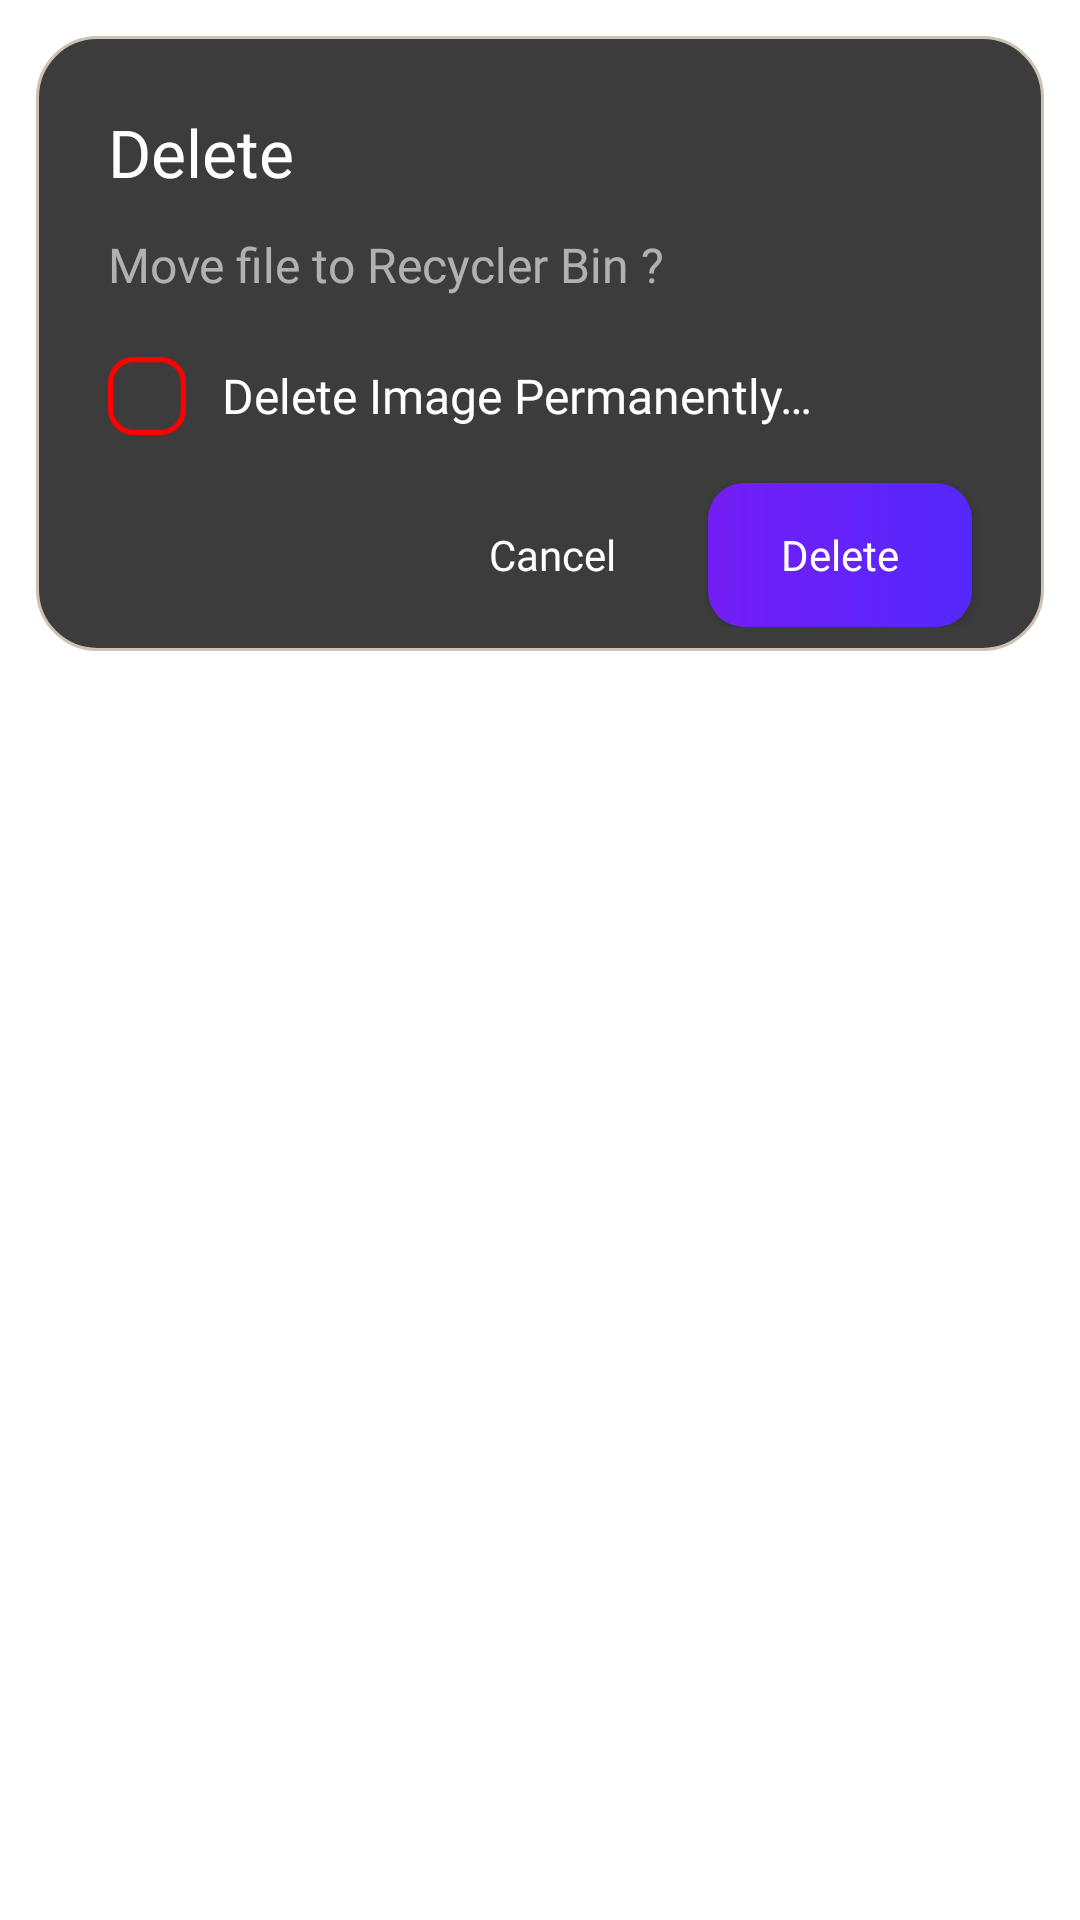

Named icons in this screenshot (1080 × 1920) and their centers, point (x, y):
uncheck checkbox: point (147, 396)
